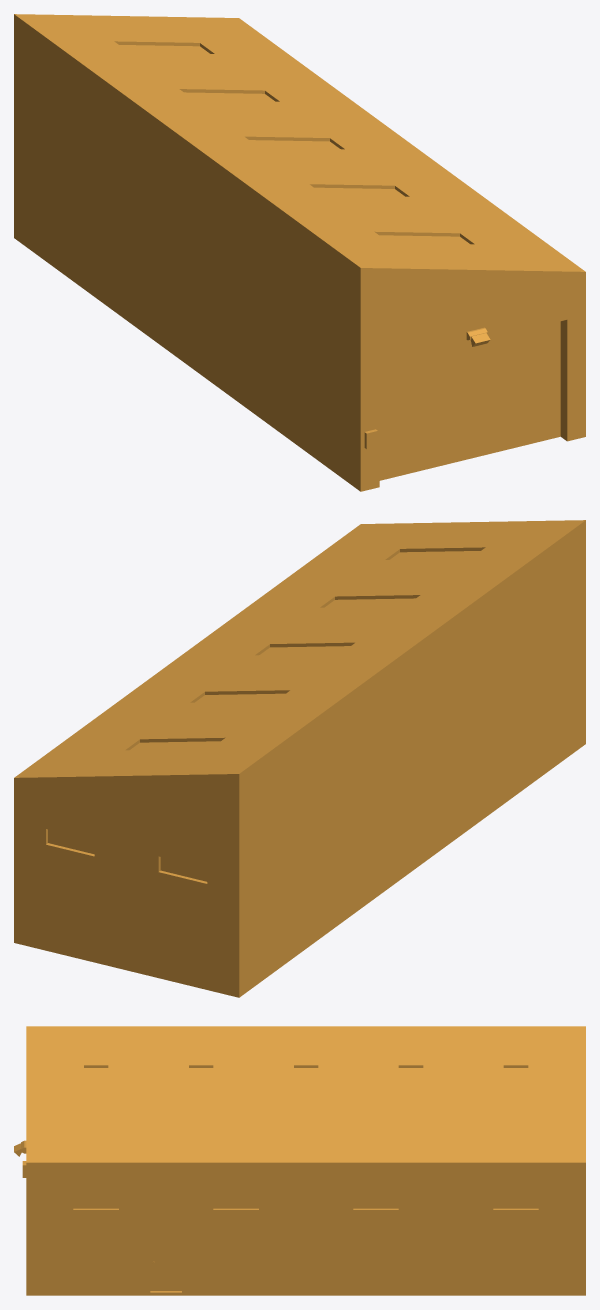
File: industry-storage.fbx
3 renders of one model, top to bottom at view 1: azimuth 30°, elevation 25°; view 2: azimuth 150°, elevation 25°; view 3: azimuth 270°, elevation 25°, orthographic. The views are drawn at different scales.
Parts seen in each view (by area): view 1: industry-storage; view 2: industry-storage; view 3: industry-storage.
Boxes of the visible parts, x1,y1,x2,y2 form: industry-storage: (14,14,585,491); industry-storage: (14,520,585,997); industry-storage: (14,1026,585,1295).
Bounding box in the file's own units: 6 × 5.7 × 16.35.
